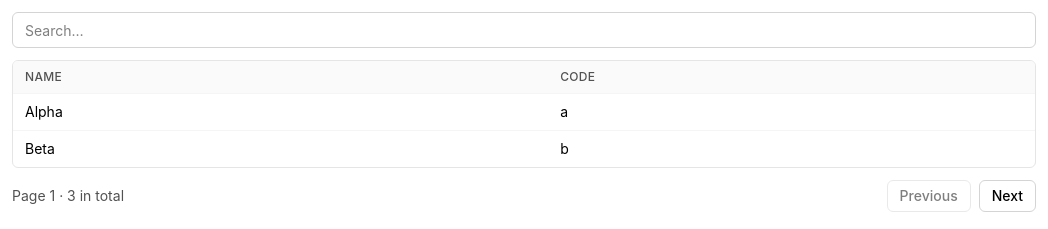
DataTable (Requirement 49.4) › pages forward and back with the API’s cursors, and returns to page one when the search changes
Expected: the text "Alpha" is shown, [13,94,548,130]
Expected: the text "Page 1 · 3 in total" is shown, [12,186,124,206]
Click the button "Next" at (1007, 196), box [979,180,1036,212]
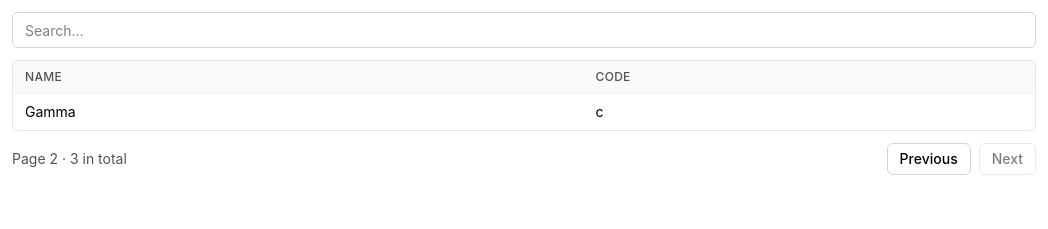
Now the text "Gamma" is shown, box [13,94,584,130]
Now the button "Next" is disabled, box [979,143,1036,175]
Click the button "Previous" at (929, 159), box [887,143,971,175]
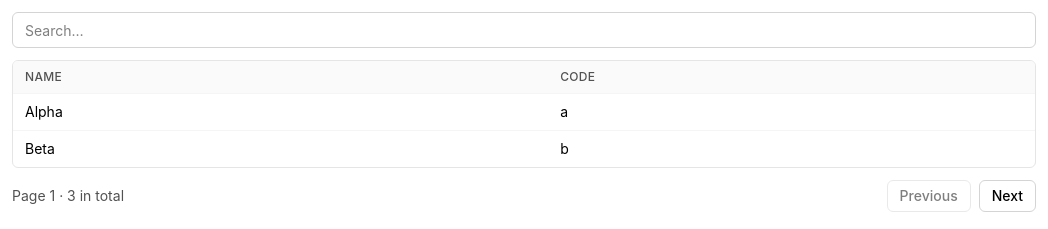
Now the text "Alpha" is shown, box [13,94,548,130]
Click the button "Next" at (1007, 196), box [979,180,1036,212]
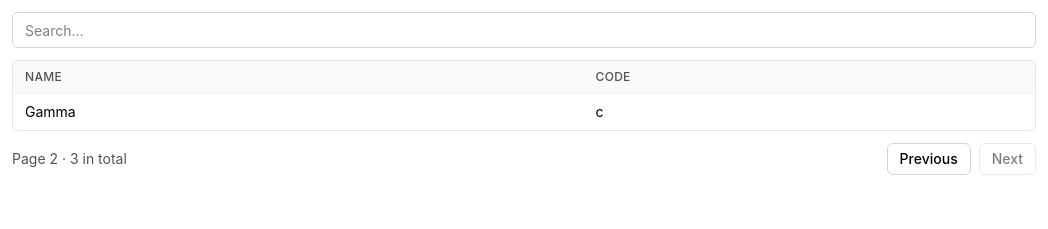
Now the text "Gamma" is shown, box [13,94,584,130]
Type "a" into the search field named "Search the list" at (524, 30), box [12,12,1036,48]
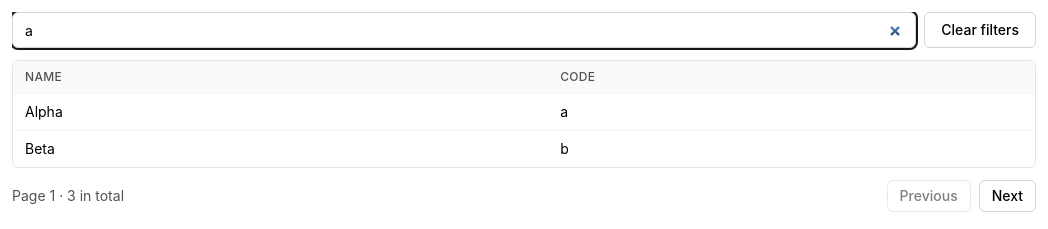
Now the text "Page 1 · 3 in total" is shown, box [12,186,124,206]
